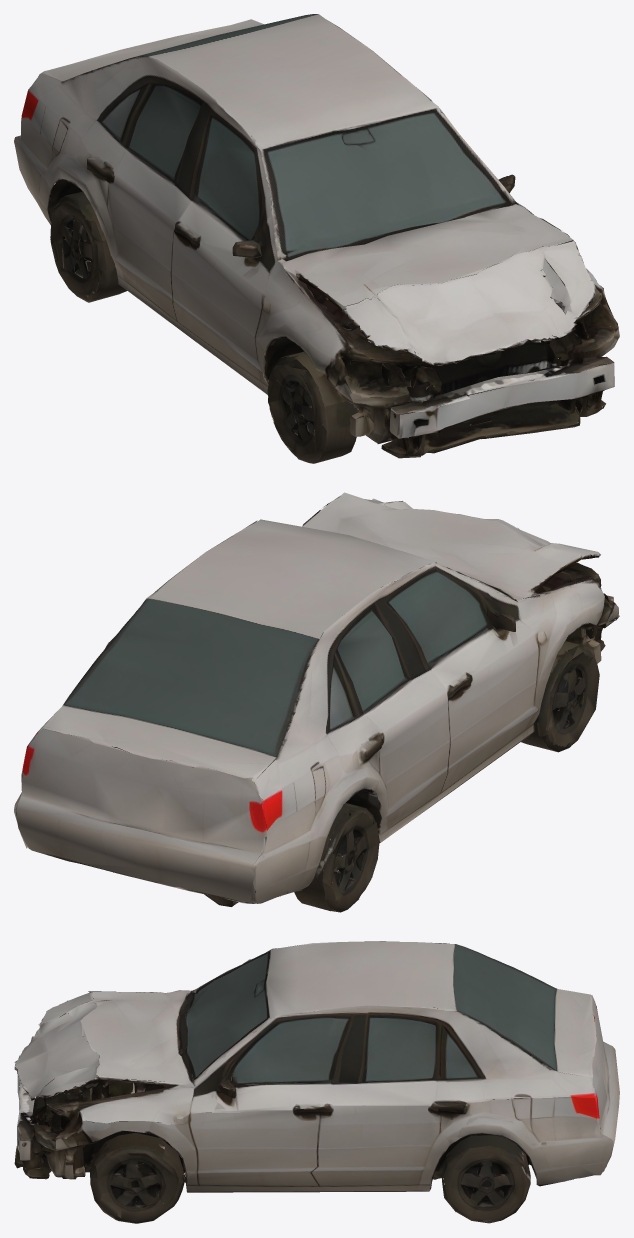
Rendered from Car1.fbx.
3 renders of one model, top to bottom at view 1: azimuth 30°, elevation 25°; view 2: azimuth 150°, elevation 25°; view 3: azimuth 270°, elevation 25°, orthographic. The views are drawn at different scales.
Parts seen in each view (by area): view 1: textured_mesh.obj; view 2: textured_mesh.obj; view 3: textured_mesh.obj.
Part boxes in pixels (left/top/right/bottom): textured_mesh.obj: left=14, top=14, right=619, bottom=463; textured_mesh.obj: left=14, top=492, right=619, bottom=912; textured_mesh.obj: left=14, top=941, right=619, bottom=1223.
Size of the model in its own units: 375 by 319 by 870.
